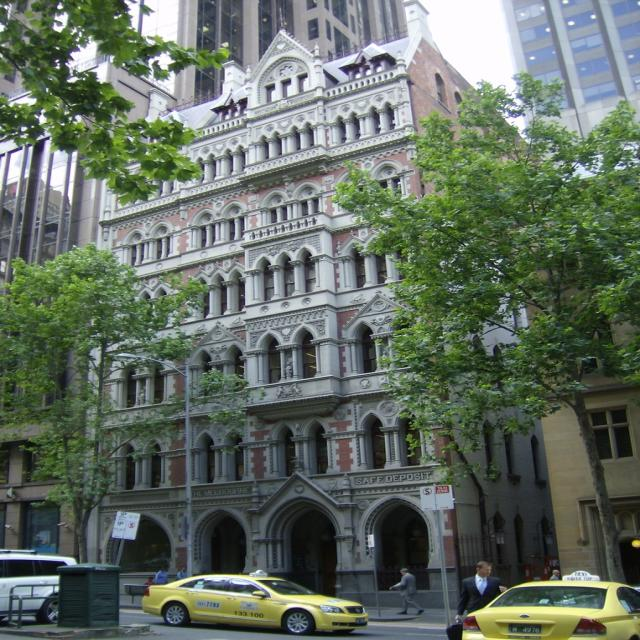car: (138, 572, 368, 636), (457, 574, 639, 639), (0, 552, 81, 617)
